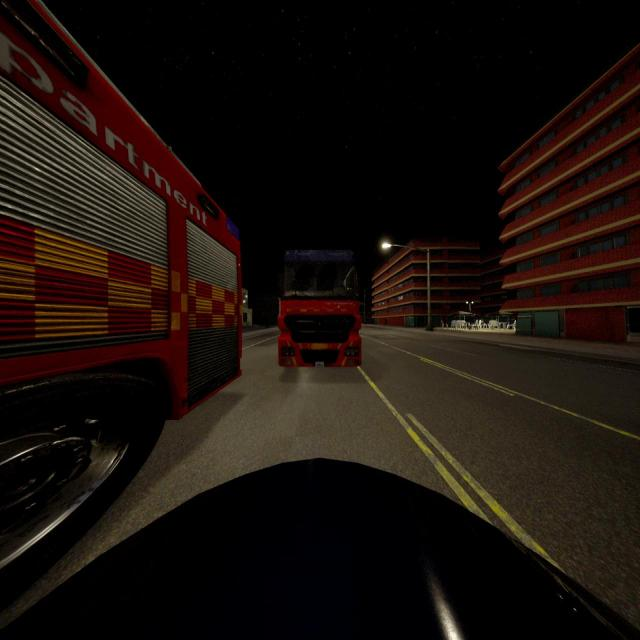Vehicle: (1, 0, 240, 604), (2, 461, 640, 639), (278, 250, 362, 365)
